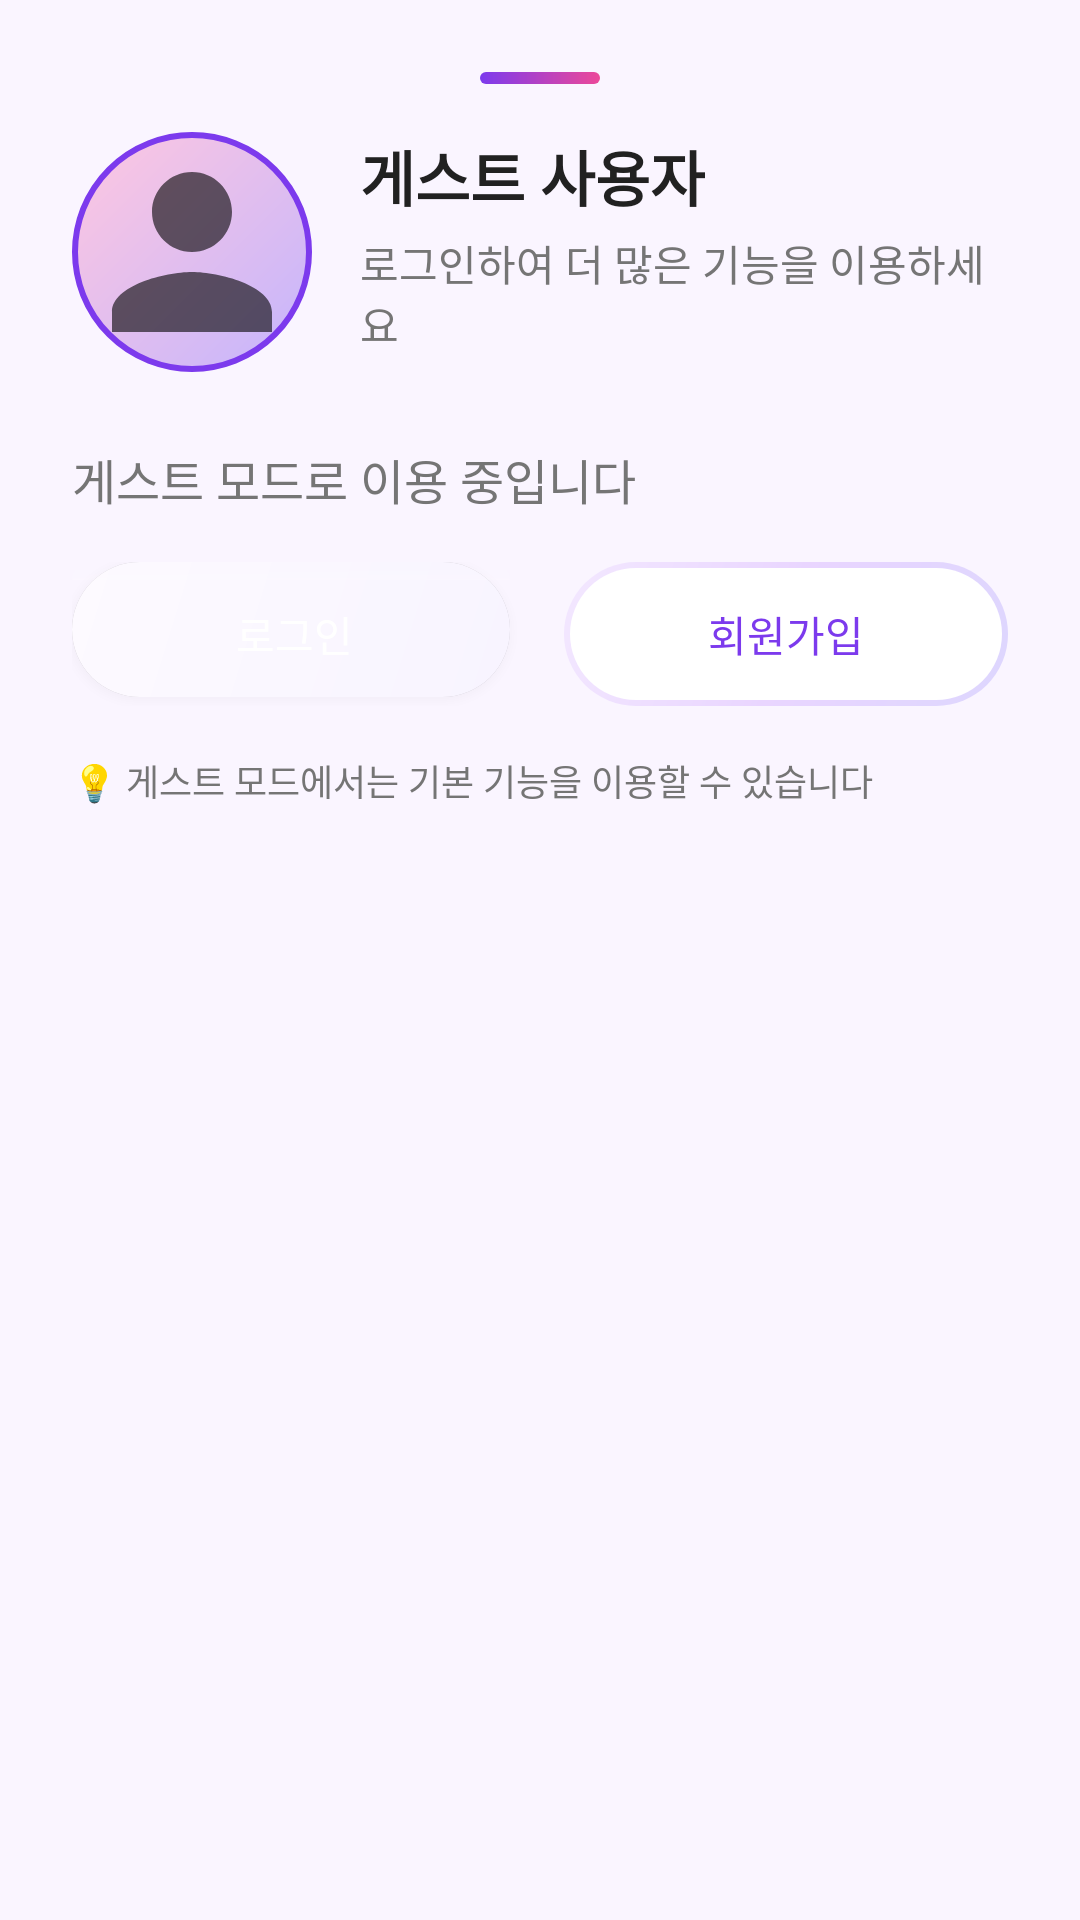

Where to tap for icons on this 1080 × 1920 app screen, as [x,y]:
person: [192,252]
